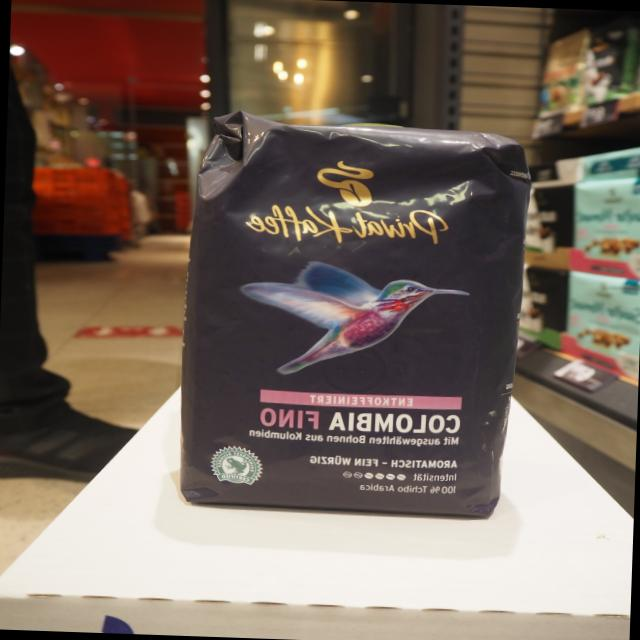C Fino Bohne: (168, 102, 536, 522)
